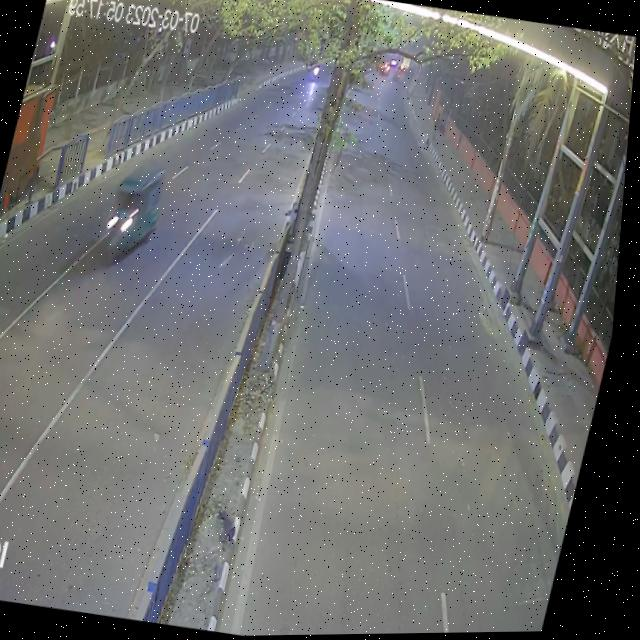cng: (97, 149, 179, 270)
